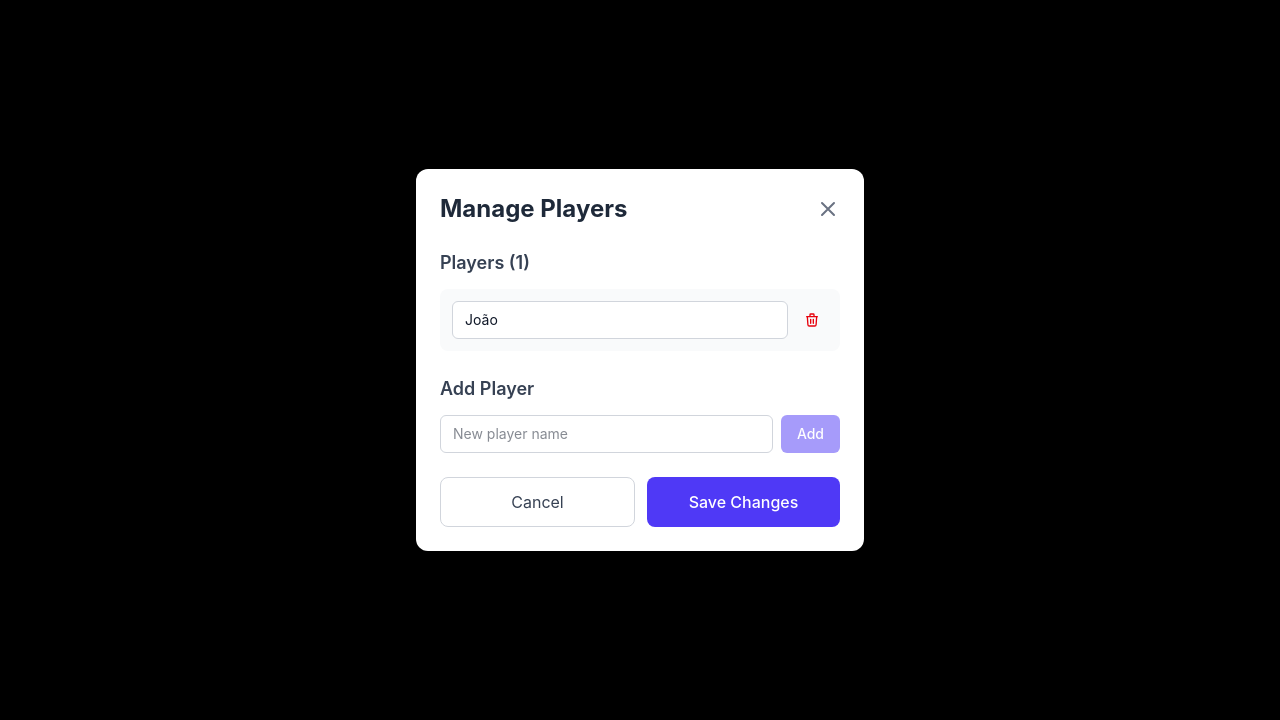
Test: PlayerManagerModal › tests validation of too long name
Type "NomeMuitoLongoQueExcedeOLimiteDeVinteCaracteres" into the field with placeholder "New player name".
click(606, 434); type("NomeMuitoLongoQueExcedeOLimiteDeVinteCaracteres")  # box [440,415,773,453]
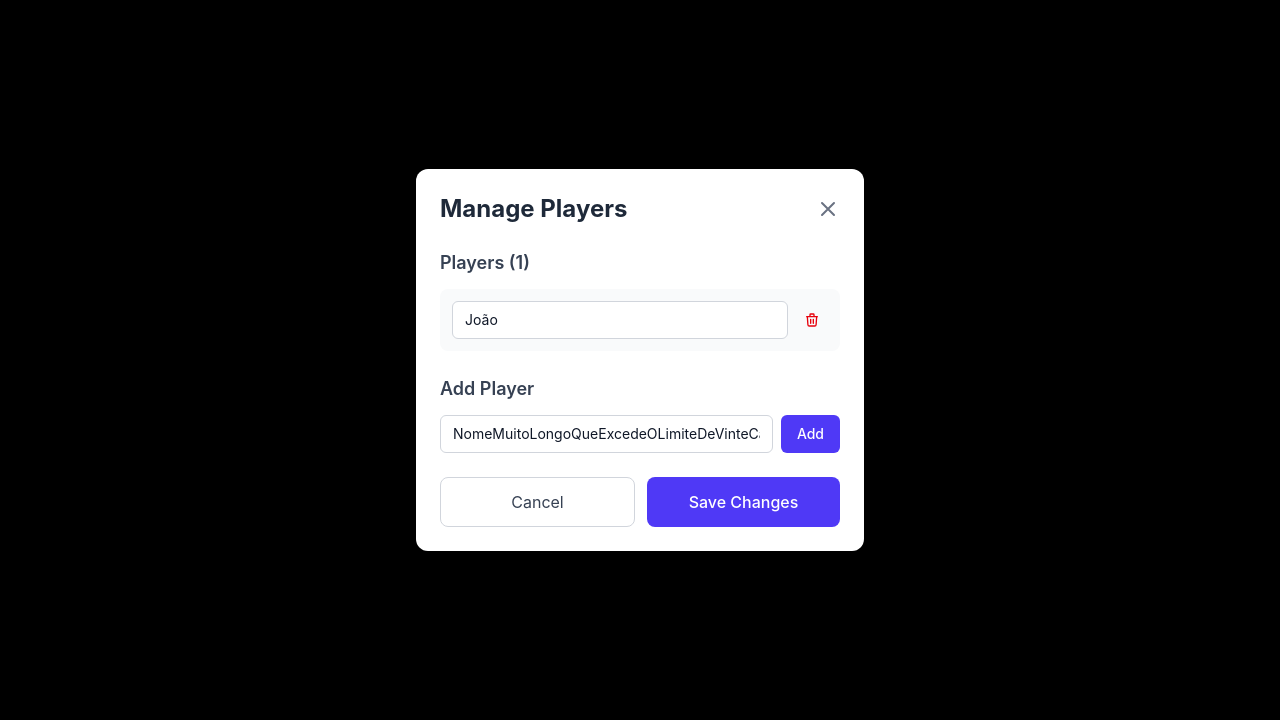
Click the button "Add".
click(810, 434)  # box [781,415,840,453]
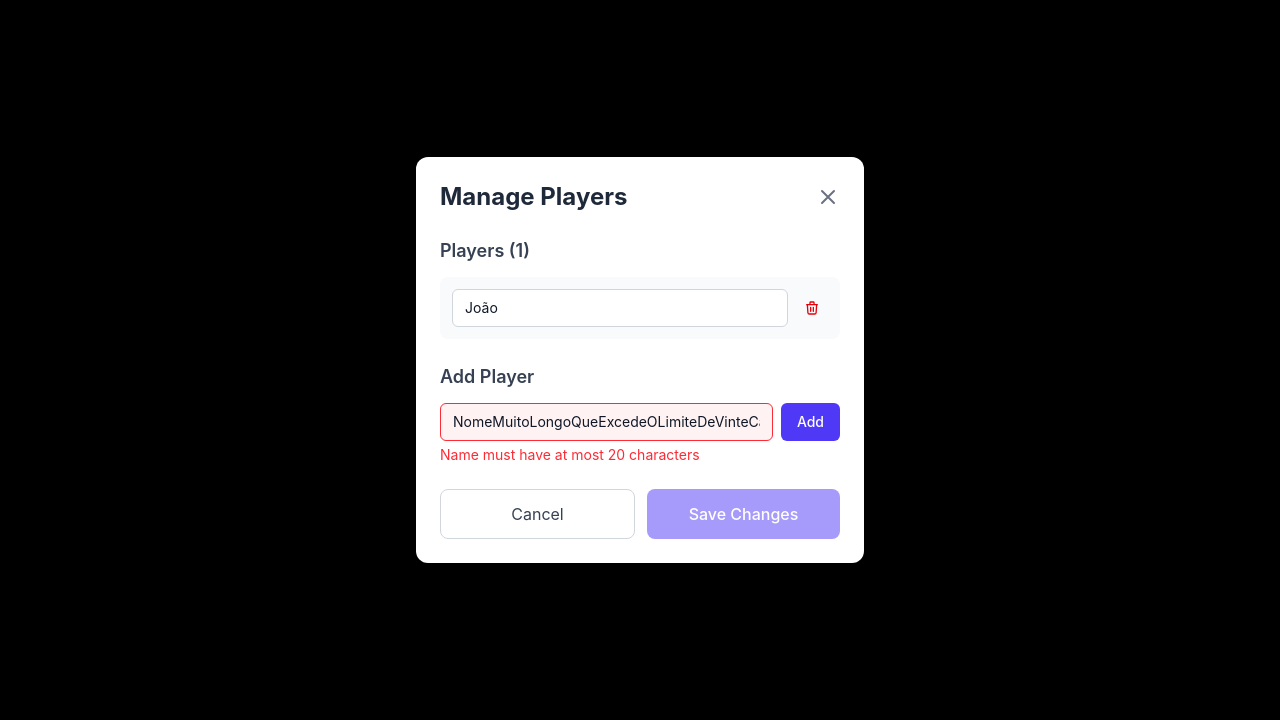
Now the text "Name must have at most 20 characters" is shown, box [440,446,700,463]
